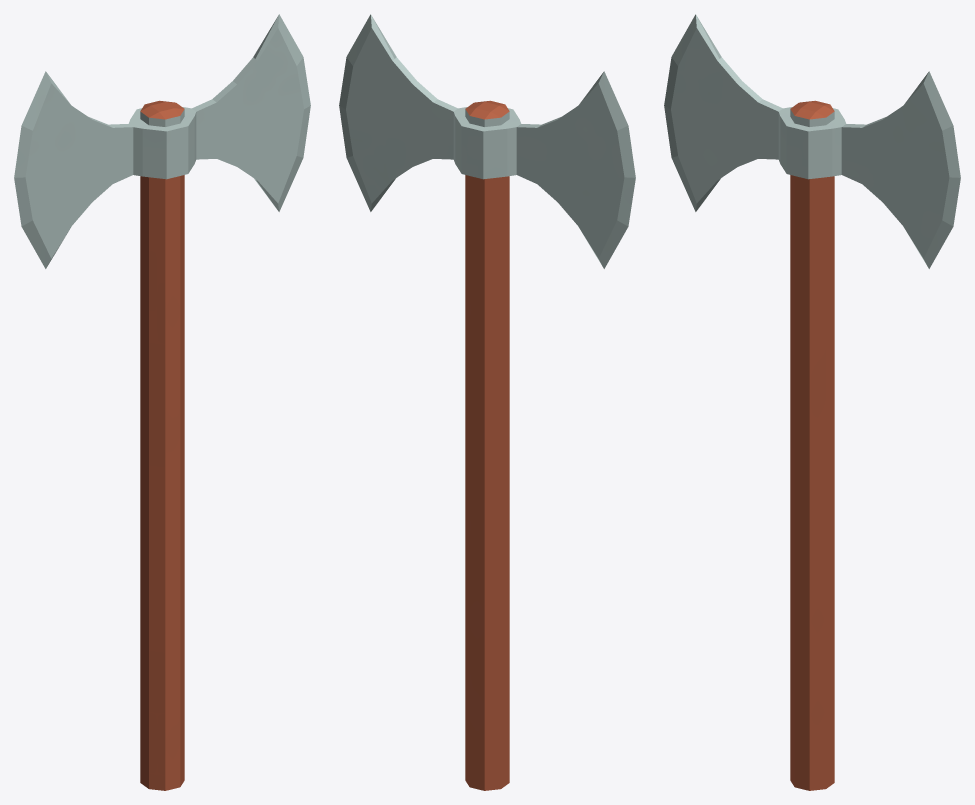
Rendered from DoubleAxe.glb.
3 views of the same model, side by side, from view 1: azimuth 30°, elevation 25°; view 2: azimuth 150°, elevation 25°; view 3: azimuth 330°, elevation 25° (orthographic).
Parts seen in each view (by area): view 1: One handed double axe; view 2: One handed double axe; view 3: One handed double axe.
Part boxes in pixels (<box>): One handed double axe: <box>14,14,310,790</box>; One handed double axe: <box>339,14,635,790</box>; One handed double axe: <box>664,14,960,790</box>.
Bounding box in the file's own units: 0.3112 × 0.7404 × 0.0546.
Materials: 1 (1 with a texture image).
